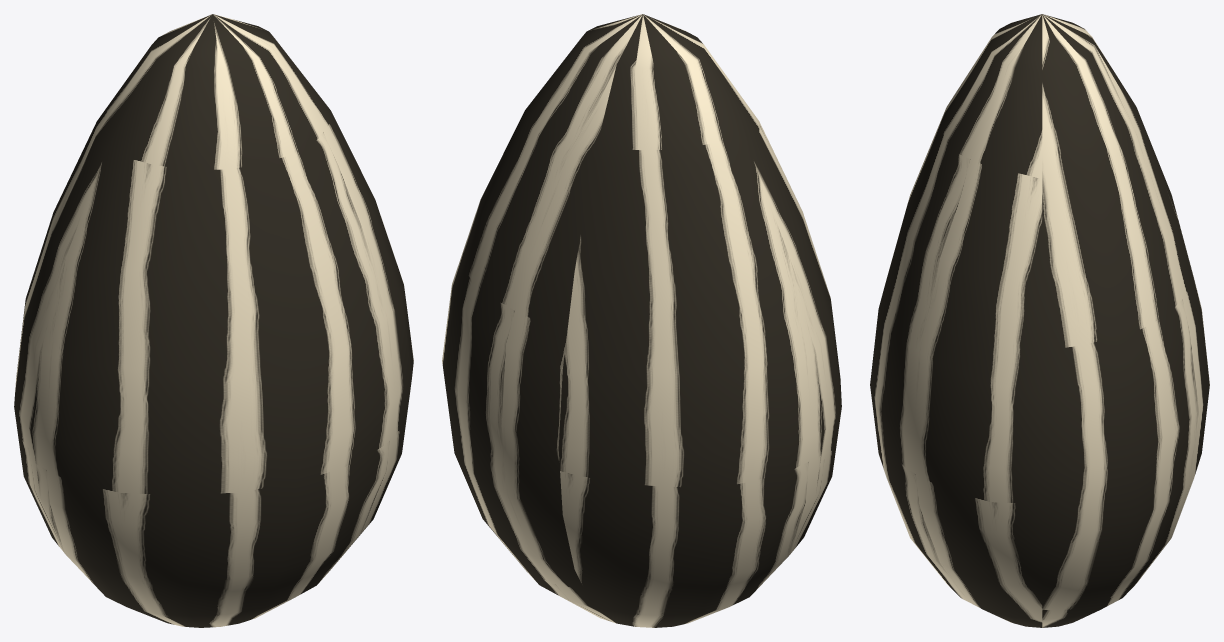
File: SunflowerModel.FBX
3 views of the same model, side by side, from view 1: azimuth 30°, elevation 25°; view 2: azimuth 150°, elevation 25°; view 3: azimuth 270°, elevation 25° (orthographic).
Visible parts, largest first — view 1: Sphere001; view 2: Sphere001; view 3: Sphere001.
Boxes of the visible parts, x1,y1,x2,y2 form: Sphere001: (14, 14, 413, 627); Sphere001: (442, 14, 841, 627); Sphere001: (870, 14, 1209, 627).
Bounding box in the file's own units: 5.02 × 7.91 × 4.07.
